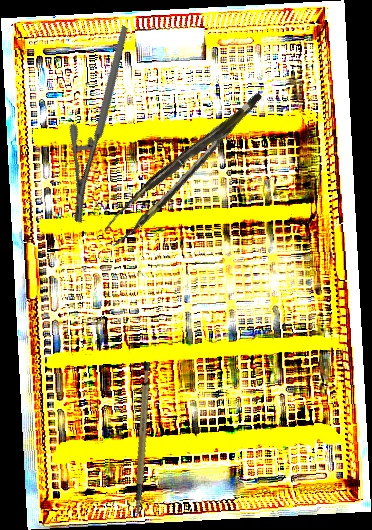Needle Holder: (19, 25, 185, 225)
Scalpel Handle: (110, 360, 171, 519)
Tissue Forceps: (92, 91, 280, 249)
